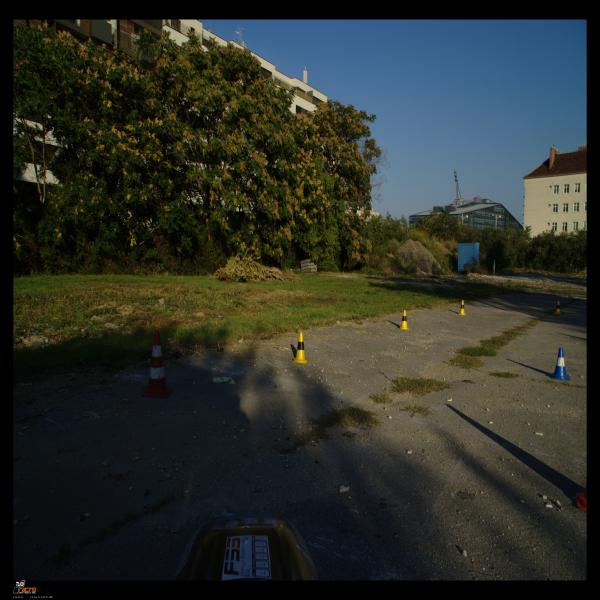blue_cone: (550, 348, 570, 380)
large_orange_cone: (142, 330, 173, 398)
yellow_cone: (292, 332, 310, 364), (399, 310, 410, 330), (457, 300, 467, 315), (554, 301, 561, 314)
